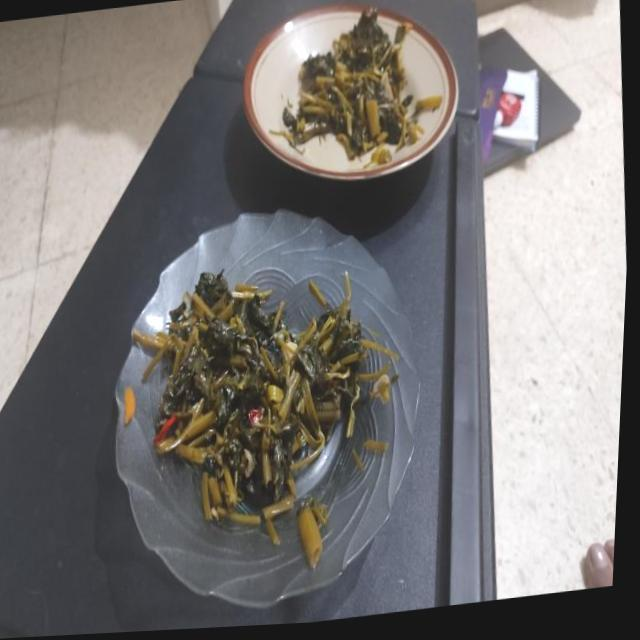tumis_kangkung: (135, 271, 367, 524), (282, 7, 423, 169)
